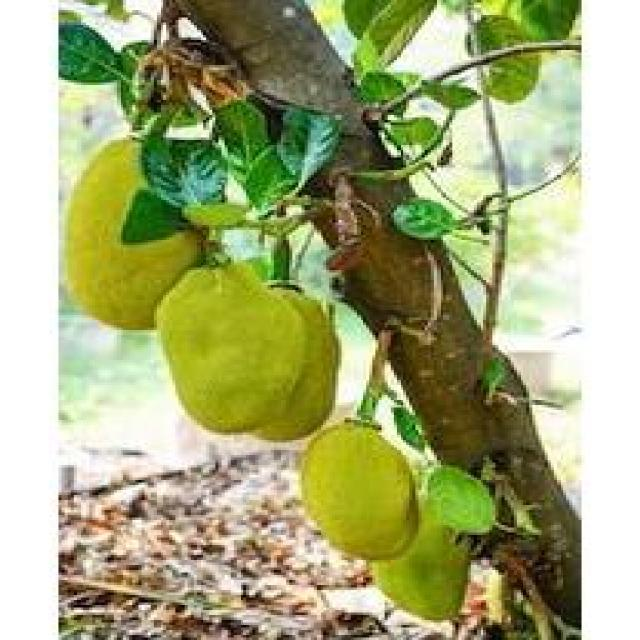Fruit: (136, 245, 367, 467), (277, 407, 446, 640)
